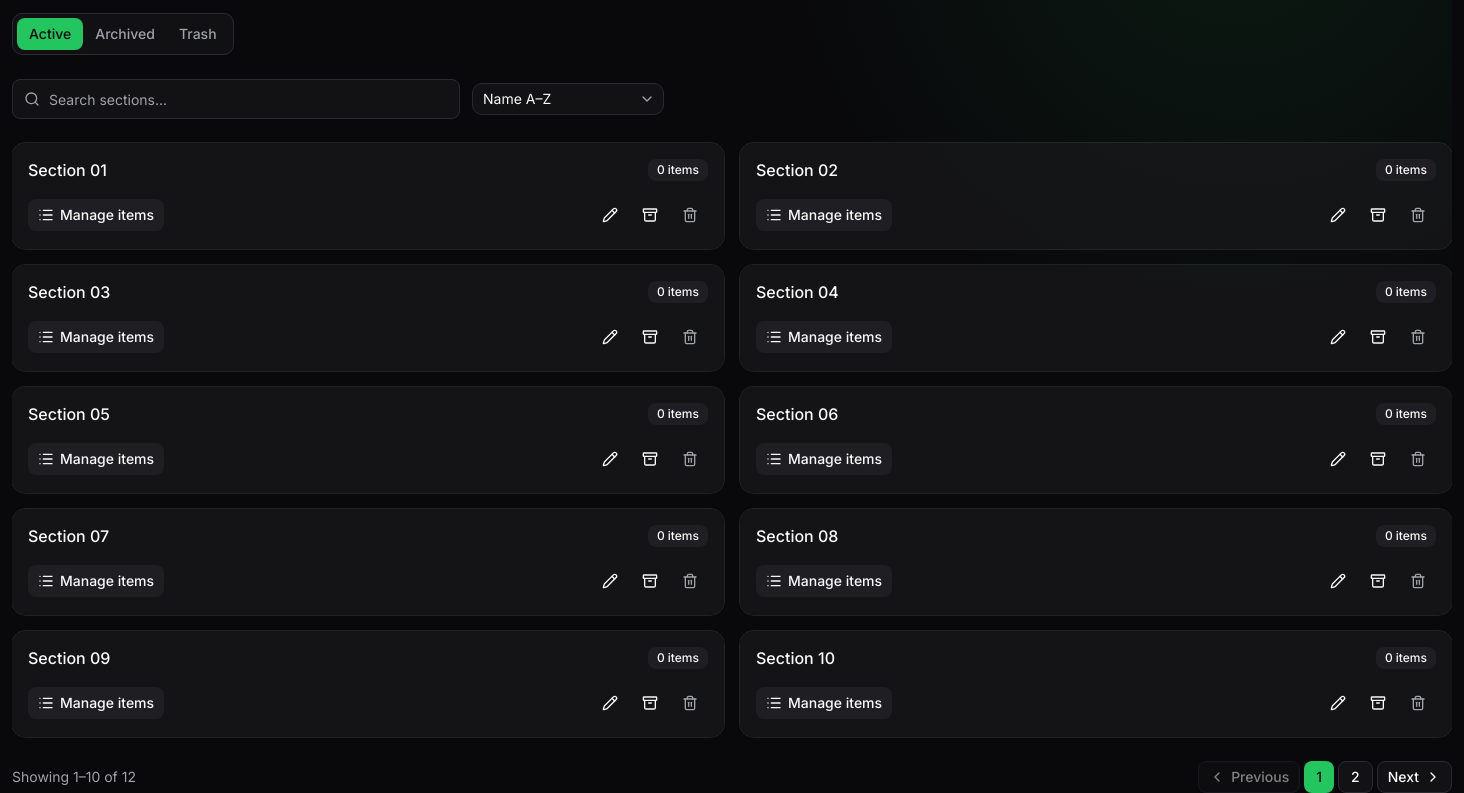
Test: SectionsView › paginates sections and moves to page 2
This screenshot has width=1464, height=793.
(page scrolled)
Expected: the text "Showing 1–10 of 12" is shown, 12,767 -> 136,787
Expected: the text "Section 01" is shown, 28,159 -> 107,181
Click the button named "Page 2": [1355, 777] box 1338,761 -> 1373,792
(page scrolled)
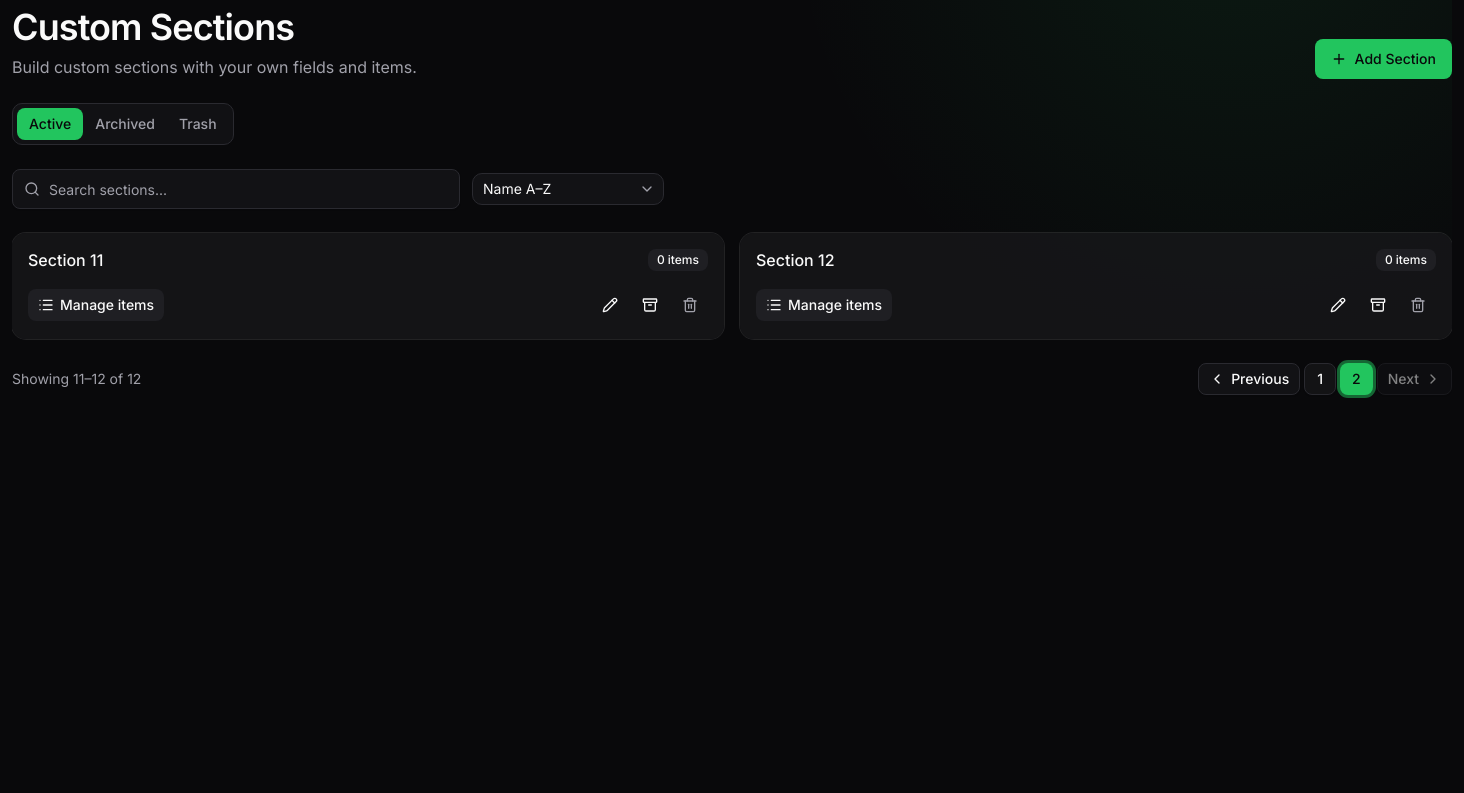
Now the text "Showing 11–12 of 12" is shown, box 12,369 -> 141,389
Now the text "Section 12" is shown, box 756,249 -> 834,271
